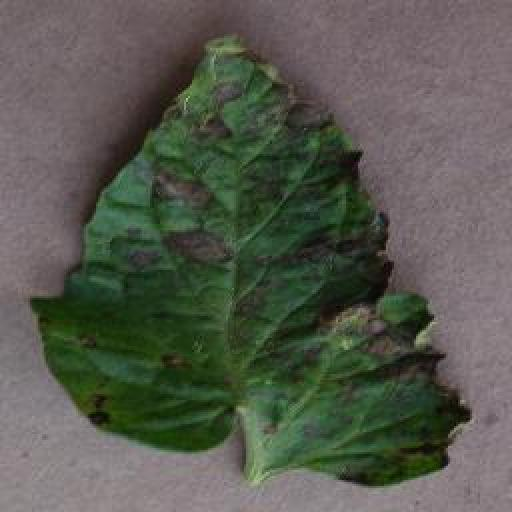disease_tomato: (28, 34, 472, 488)
